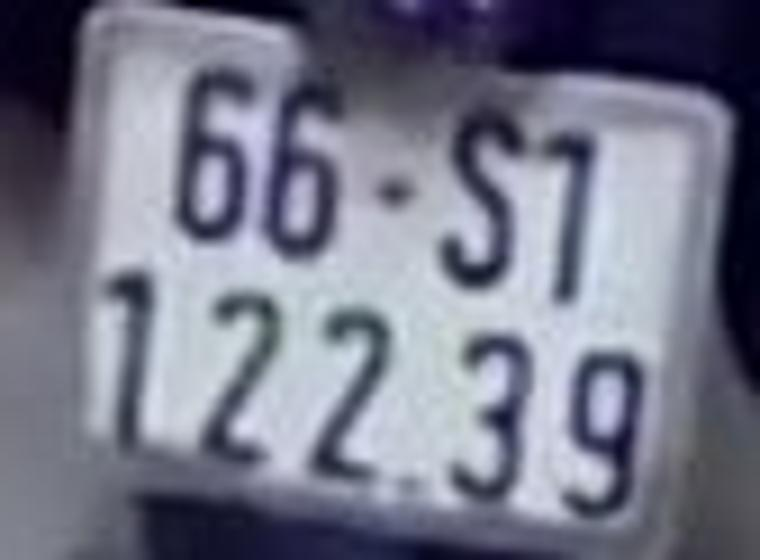-: (370, 174, 428, 213)
.: (390, 465, 442, 503)
1: (533, 119, 603, 308), (99, 267, 159, 459)
2: (201, 280, 283, 473), (306, 300, 389, 486)
3: (446, 324, 531, 505)
6: (262, 79, 358, 268), (177, 62, 252, 247)
9: (560, 329, 644, 523)
S: (435, 101, 530, 295)
